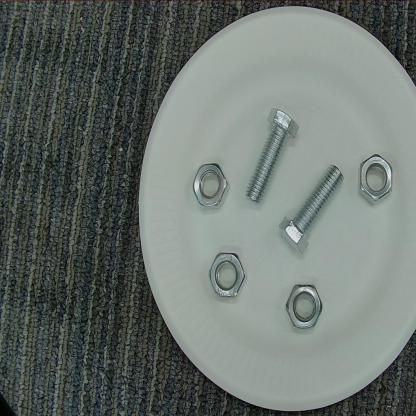FOD: (277, 154, 345, 262), (244, 105, 299, 209), (279, 279, 328, 337), (186, 158, 233, 215), (355, 149, 396, 211), (207, 248, 250, 303)
